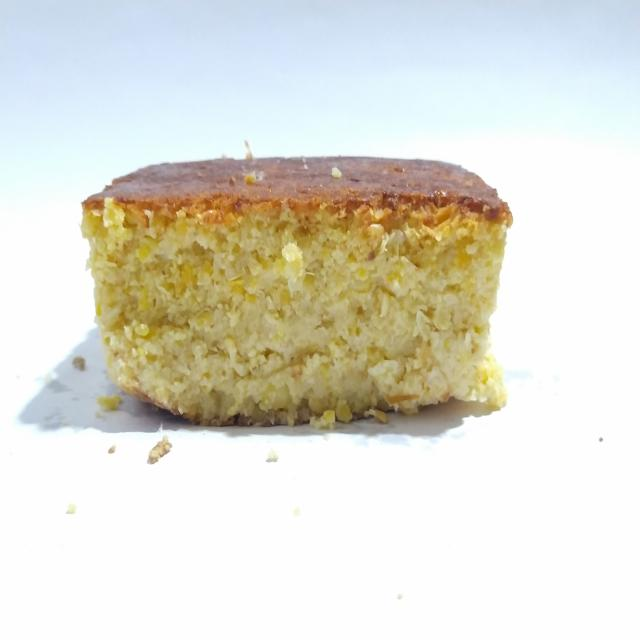Food: (72, 132, 520, 450)
